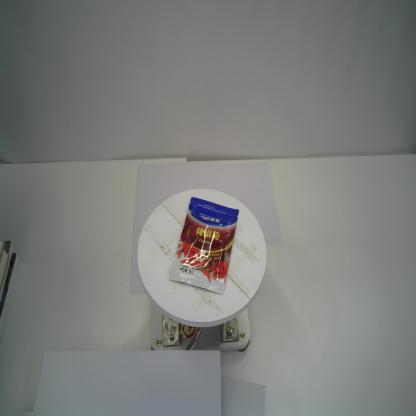Seasoner: (168, 197, 239, 295)
